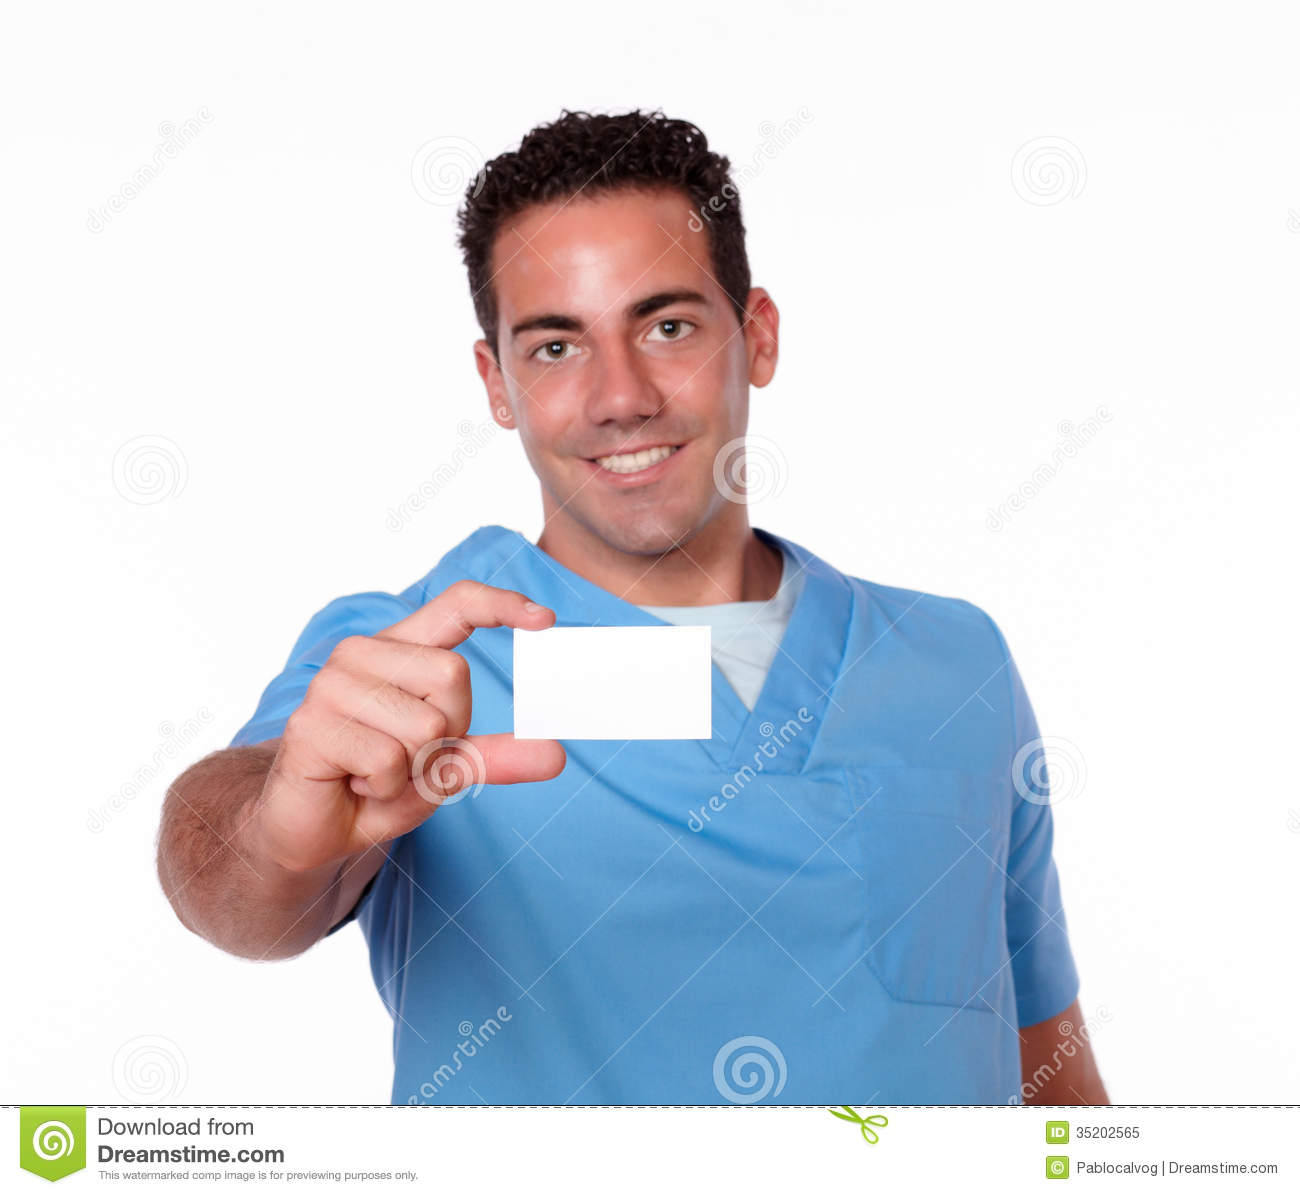tarjeta: (508, 622, 718, 743)
